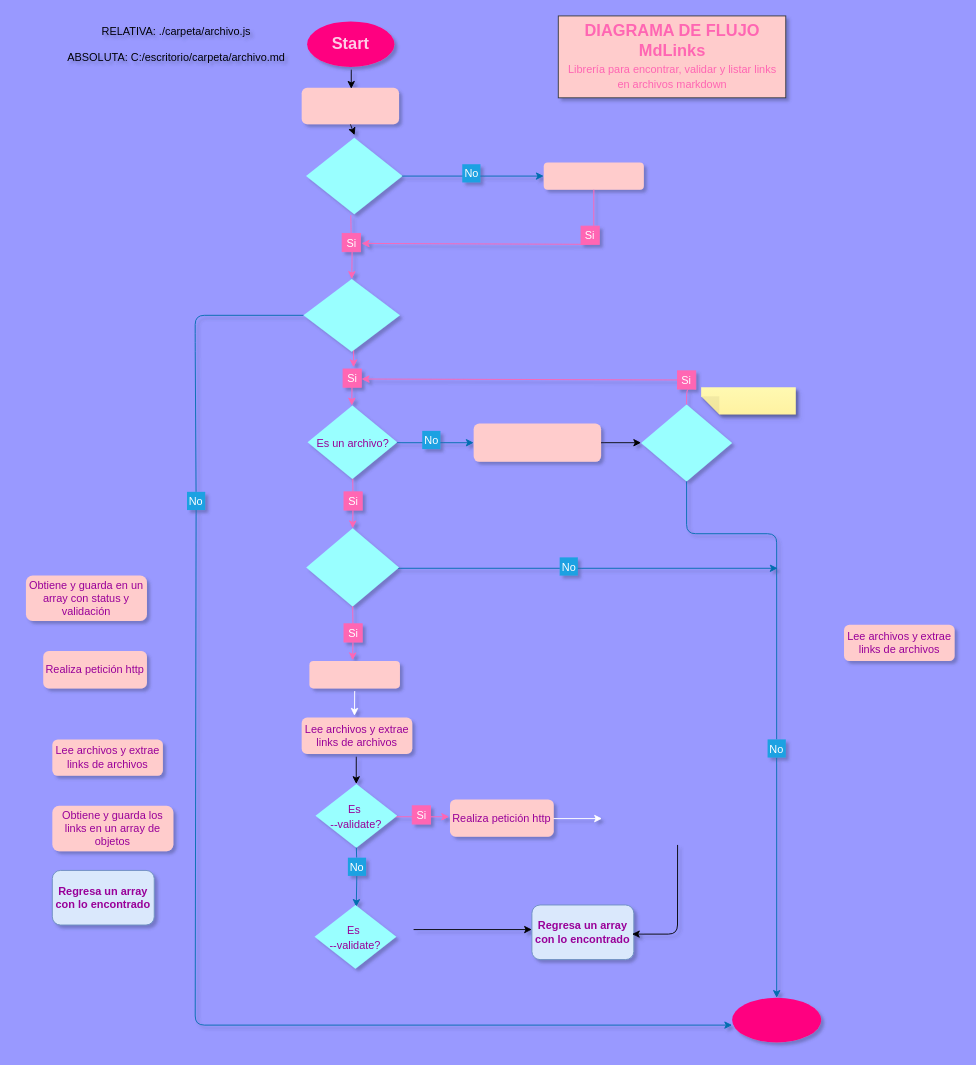
This 976x1065 diagram has some shape labels left out. The shapes that lost their labels are listed below. From the top down, each one's centre as x and y in pixels, then its label:
the point at 350,105: Leer la ruta que pasa la usuaria
the point at 354,175: La ruta es absoluta?
the point at 593,175: Hacerla absoluta
the point at 351,314: La ruta es válida?
the point at 749,401: recursividad
the point at 537,442: Es un directorio / leer y correrlo
the point at 686,442: Contiene archivos?
the point at 352,567: Es una extensión .md?
the point at 354,674: Guardar en un array
the point at 776,1019: End
